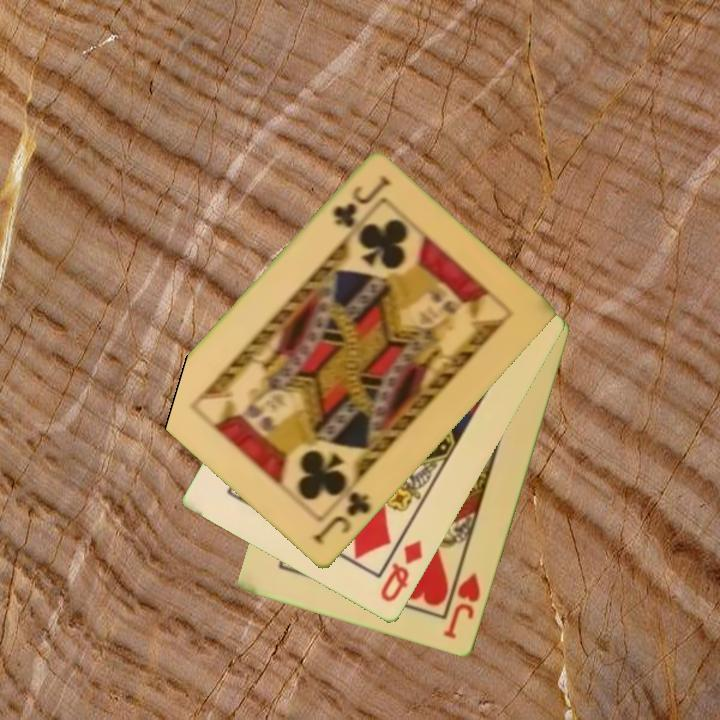Jc: (310, 488, 374, 548), (329, 172, 393, 232)
Jh: (440, 569, 484, 643)
Qd: (377, 537, 426, 606)
